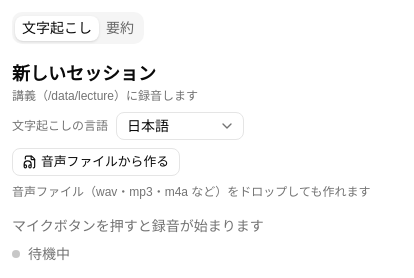
Test: SessionView の新しいセッション › 録音先と、マイクボタン・音声ファイルの案内を出す
The width and height of the screenshot is (414, 278).
Expected: the heading "新しいセッション" is shown, [12,64,156,84]
Expected: the text "講義（/data/lecture）に録音します" is shown, [12,89,198,103]
Press the mouse on the tab "要約": (120, 28) [99,16,141,40]
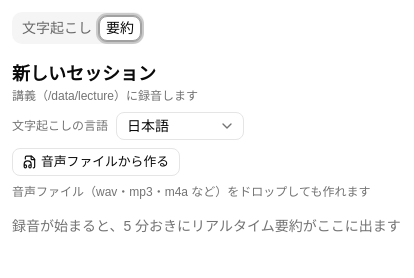
Expected: the text "録音が始まると、5 分おきにリアルタイム要約がここに出ます" is shown, [12,216,402,236]
